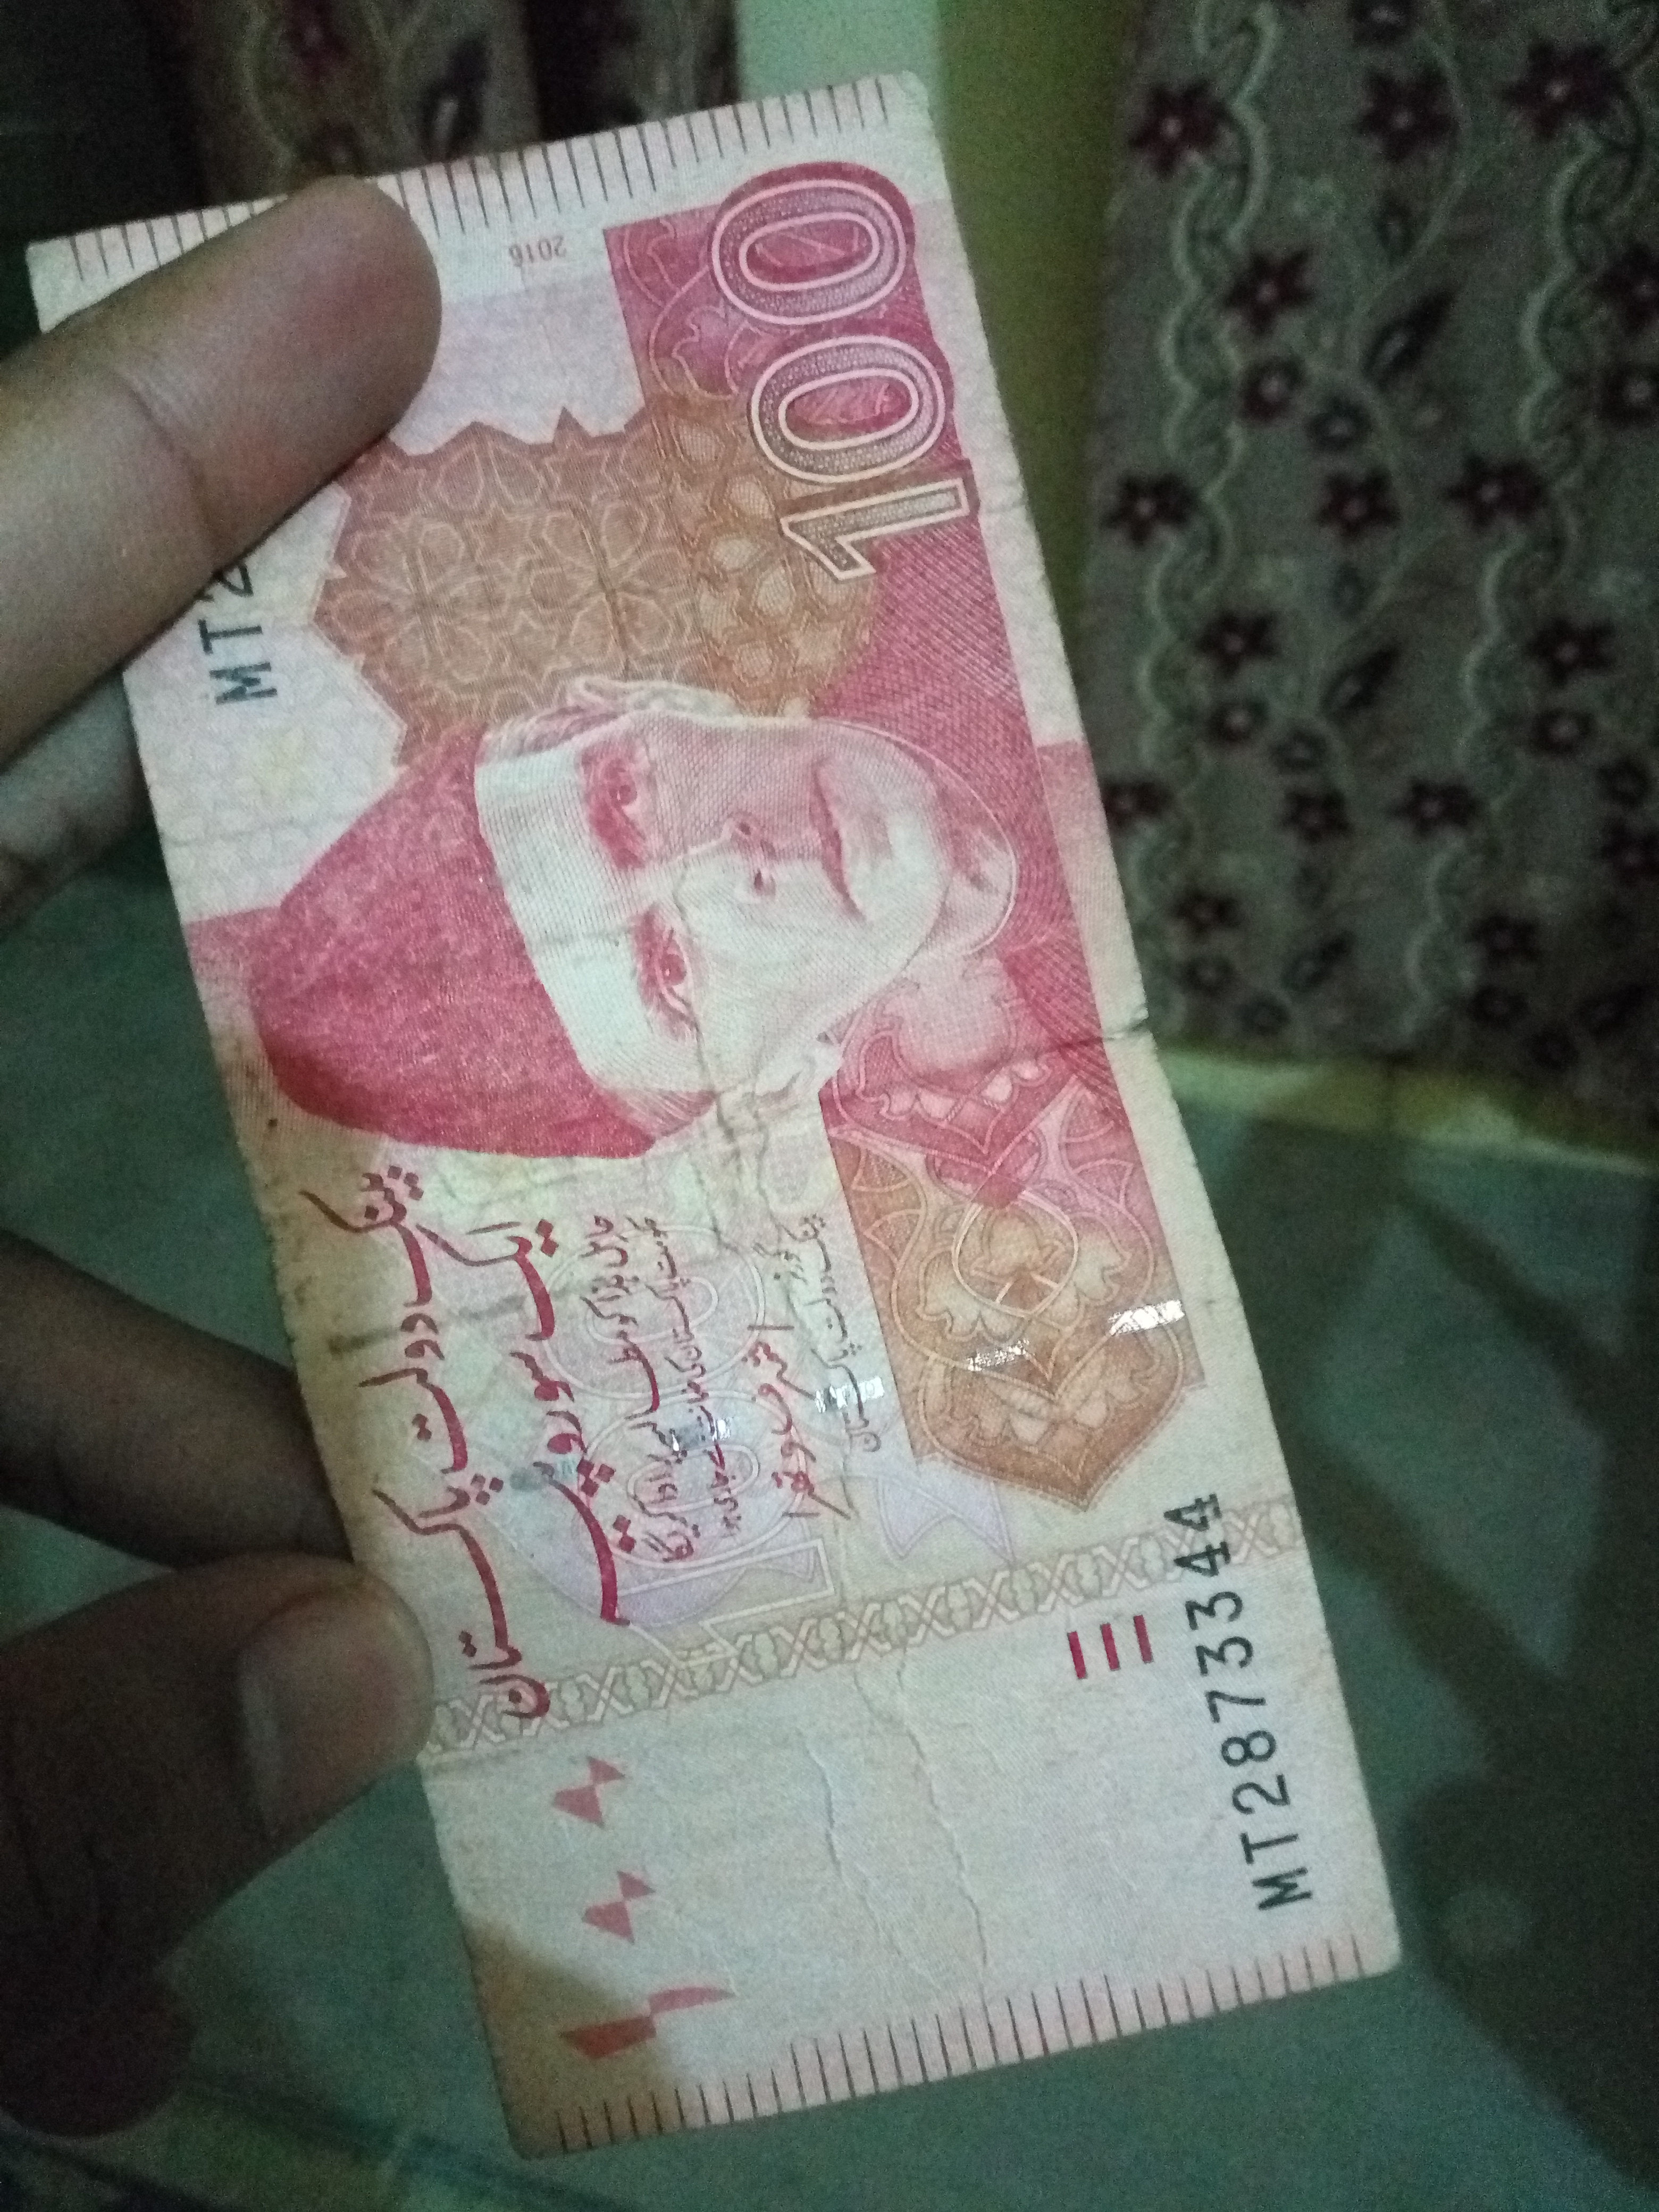100 rupee: (30, 66, 1405, 2193)
